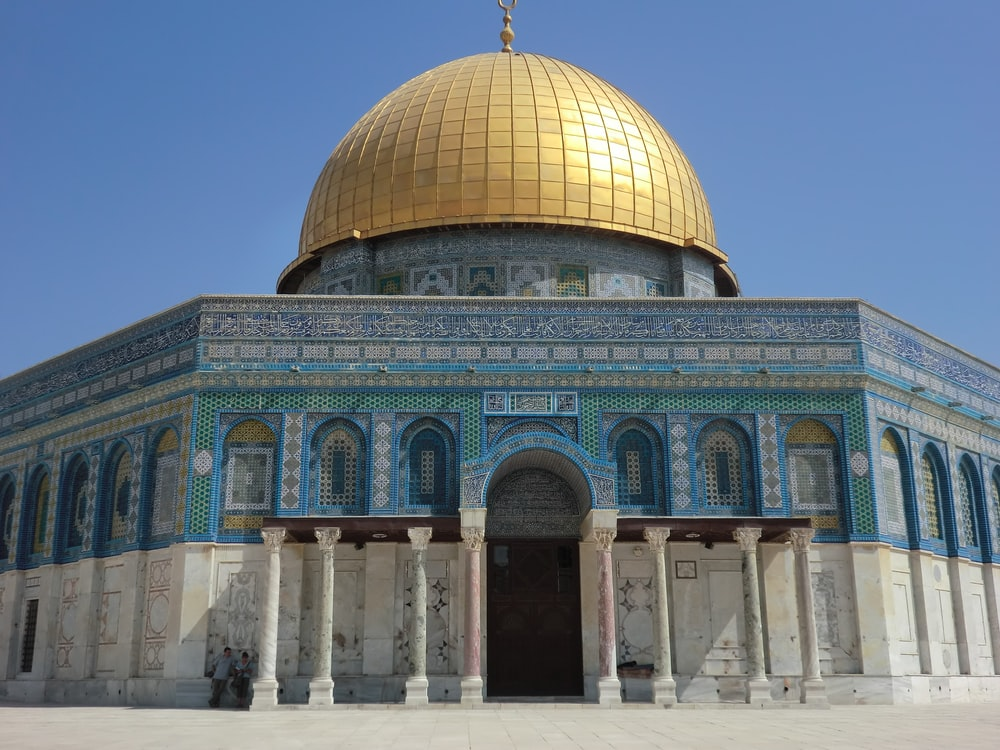Mosque: (16, 7, 989, 706)
